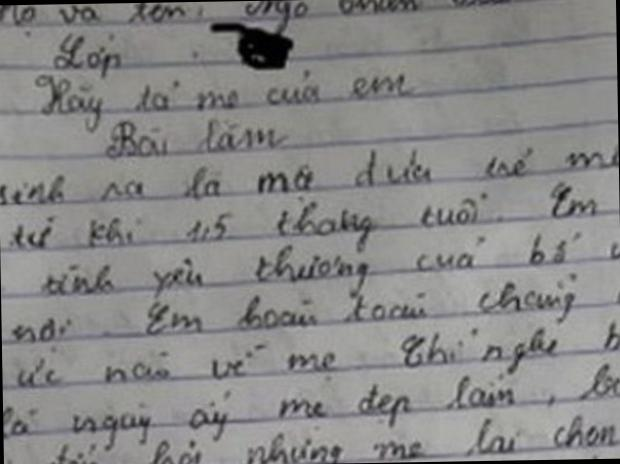text: (2, 359, 620, 456), (6, 266, 620, 355), (0, 233, 620, 318), (3, 178, 601, 262), (12, 317, 620, 395), (0, 140, 619, 211), (3, 411, 620, 464), (31, 66, 416, 136), (0, 0, 518, 41), (102, 114, 292, 162), (48, 29, 126, 84)
